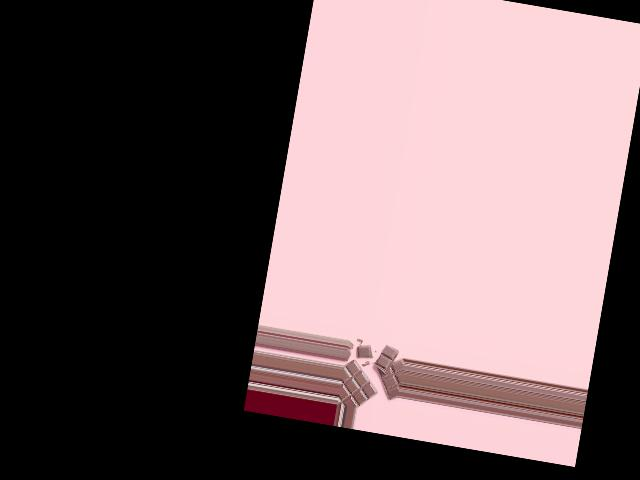chocolate: (337, 342, 401, 414)
